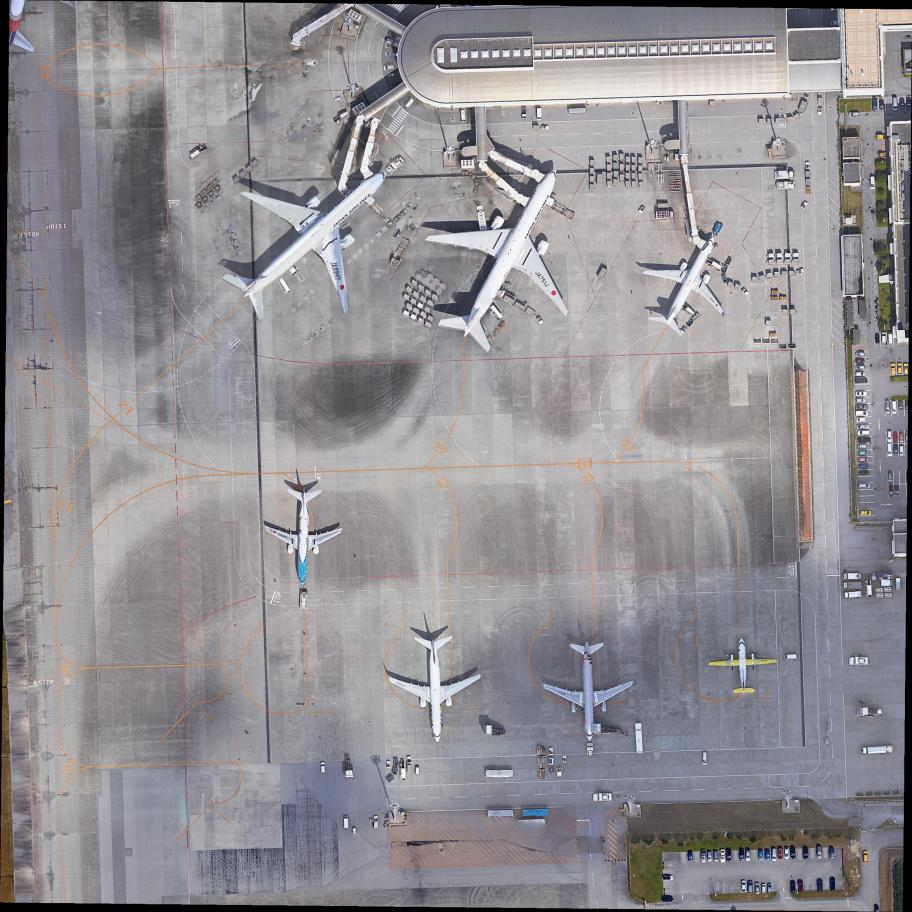large-vehicle: (859, 744, 894, 756), (402, 97, 416, 111), (841, 572, 862, 581), (842, 591, 862, 600), (842, 581, 863, 589), (342, 815, 351, 830), (458, 109, 467, 124), (701, 752, 708, 767), (520, 107, 528, 120), (536, 107, 543, 121), (888, 332, 894, 345)
plane: (184, 111, 433, 358), (389, 134, 624, 379), (626, 222, 750, 351), (387, 634, 486, 745), (541, 634, 639, 740), (261, 485, 346, 585), (706, 635, 779, 698)
small-vehicle: (828, 876, 837, 892), (797, 878, 805, 894), (784, 652, 798, 661), (816, 877, 823, 893), (828, 846, 836, 860), (319, 760, 327, 774), (869, 175, 876, 191), (856, 429, 870, 437), (883, 400, 891, 414), (802, 845, 809, 860), (789, 844, 796, 859), (725, 847, 732, 862), (738, 847, 745, 862), (757, 847, 764, 862), (777, 846, 784, 861), (661, 895, 674, 903), (859, 509, 872, 517), (861, 850, 869, 863), (719, 849, 726, 863), (687, 849, 694, 863), (700, 848, 707, 862), (890, 362, 897, 376), (877, 152, 891, 159), (888, 483, 895, 497), (894, 484, 901, 498), (854, 403, 868, 410), (790, 879, 796, 895), (383, 63, 395, 71), (858, 423, 870, 431), (764, 848, 771, 861), (816, 846, 823, 859), (661, 875, 674, 882), (896, 363, 903, 376), (854, 377, 867, 384), (876, 134, 889, 141), (891, 401, 898, 414), (855, 410, 868, 417), (854, 390, 867, 397), (771, 847, 777, 862), (754, 881, 760, 896), (745, 847, 751, 861), (857, 483, 871, 489), (905, 430, 911, 444), (892, 98, 899, 110), (904, 400, 911, 412), (857, 437, 871, 443), (886, 431, 893, 443), (906, 97, 912, 110), (784, 847, 790, 860), (747, 880, 753, 893), (903, 362, 909, 375), (872, 98, 878, 111), (854, 371, 865, 378), (898, 401, 905, 412), (898, 445, 905, 456), (899, 98, 905, 110), (854, 351, 866, 357), (873, 302, 881, 311), (873, 307, 881, 316), (887, 444, 893, 456), (854, 397, 866, 403), (385, 51, 395, 58), (741, 880, 746, 894), (878, 100, 885, 110), (761, 883, 767, 894), (854, 358, 865, 364), (887, 472, 893, 483), (858, 470, 869, 476), (858, 463, 869, 469), (857, 443, 868, 449), (856, 417, 867, 423), (873, 295, 880, 304), (874, 314, 881, 323), (714, 851, 719, 863), (707, 850, 712, 862), (875, 332, 880, 344), (881, 332, 886, 344), (858, 456, 868, 462), (858, 450, 868, 456), (893, 432, 898, 444), (853, 365, 867, 369), (848, 112, 859, 117), (899, 432, 904, 443), (893, 444, 898, 455), (768, 883, 772, 895)
